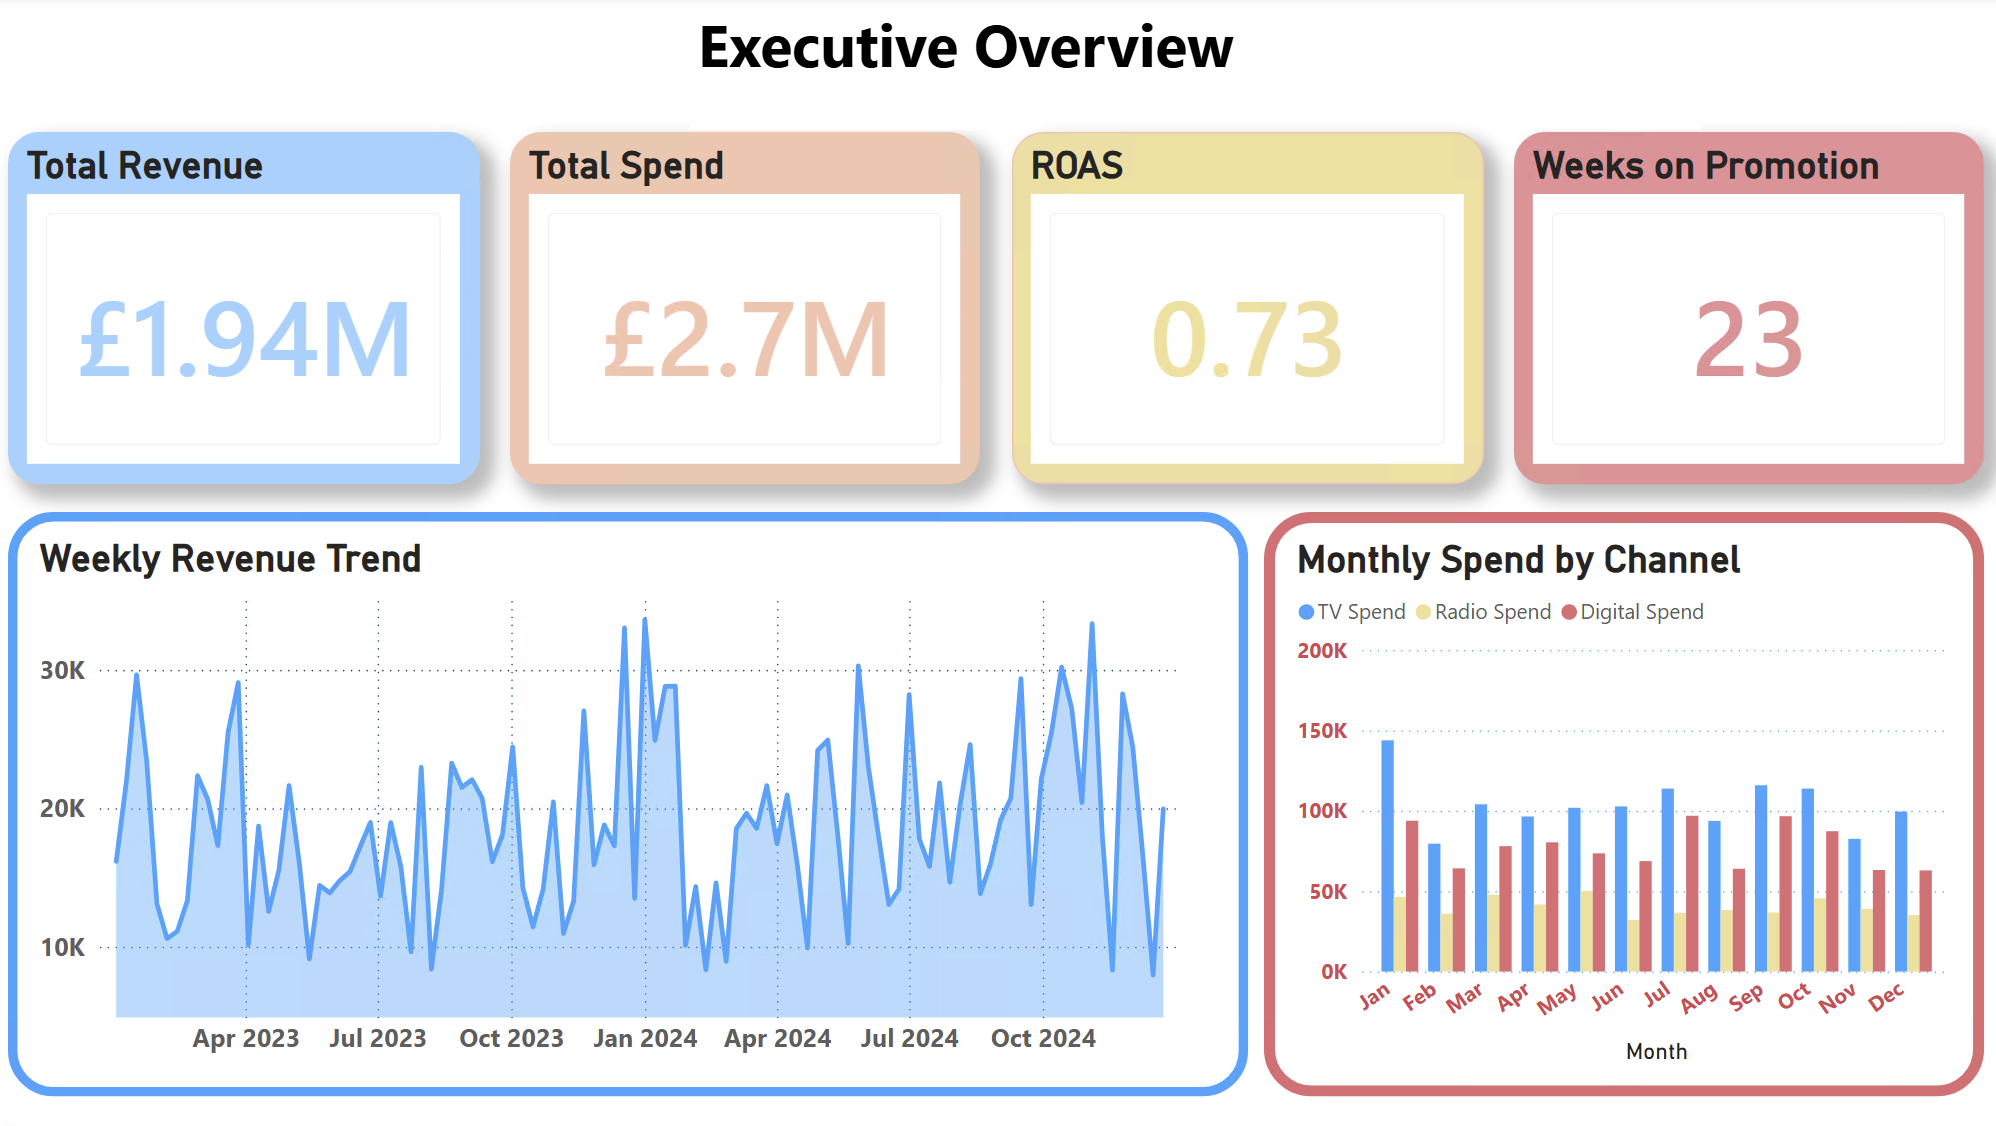

The page's visual inventory and layout, read from the dashboard file:
{"tool":"powerbi","page":{"name":"Executive Overview","canvas":[1280,720],"ordinal":0},"visuals":[{"type":"cardVisual","title":"Total Revenue","fields":{"Data":["marketing_data_powerbi.Total Revenue Card Display"]},"box":[5.1,86.7,300.9,224.4],"z":0},{"type":"cardVisual","title":"Total Spend","fields":{"Data":["marketing_data_powerbi.Total Spend"]},"box":[325.5,86.7,299.6,224.4],"z":1000},{"type":"cardVisual","title":"Weeks on Promotion","fields":{"Data":["marketing_data_powerbi.Promo Weeks"]},"box":[965.1,86.7,299.6,224.4],"z":2000},{"type":"textbox","box":[439.4,0,644.6,85.7],"z":3000},{"type":"lineChart","title":"Weekly Revenue Trend","fields":{"Category":["marketing_data_powerbi.week"],"Y":["Sum(marketing_data_powerbi.sales)"]},"box":[5.1,328.9,790.4,372.3],"z":4000},{"type":"clusteredColumnChart","title":"Monthly Spend by Channel","fields":{"Category":["Date.Month"],"Y":["marketing_data_powerbi.TV Spend","Sum(marketing_data_powerbi.radio_spend)","marketing_data_powerbi.Digital Spend"]},"box":[805.7,328.9,459,372.3],"z":5000},{"type":"cardVisual","title":"ROAS","fields":{"Data":["marketing_data_powerbi.ROAS"]},"box":[644.7,86.7,300.9,224.4],"z":6000}]}

Visuals, with their boxes in screenshot pixels (x1, y1, x2, y2), scaled from the page's 1280x720 canvas onto the 1996x1126 screenshot:
"Total Revenue" cardVisual: crop(8, 136, 477, 487)
"Total Spend" cardVisual: crop(508, 136, 975, 487)
"Weeks on Promotion" cardVisual: crop(1505, 136, 1972, 487)
textbox: crop(685, 0, 1690, 134)
"Weekly Revenue Trend" lineChart: crop(8, 514, 1240, 1097)
"Monthly Spend by Channel" clusteredColumnChart: crop(1256, 514, 1972, 1097)
"ROAS" cardVisual: crop(1005, 136, 1475, 487)
